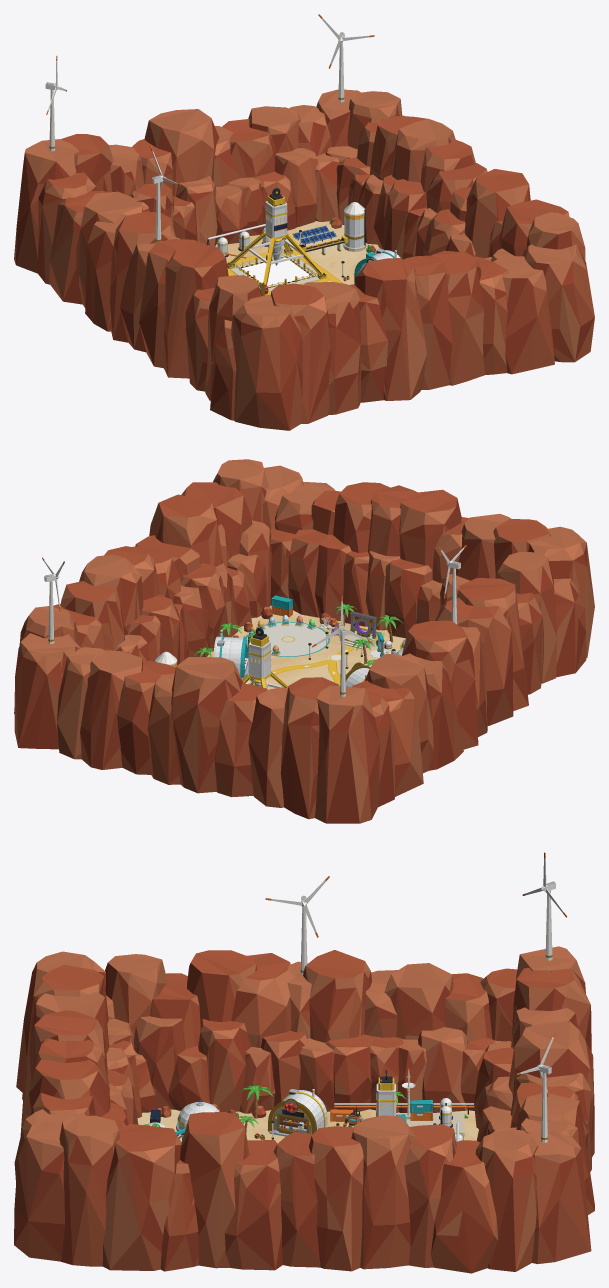
Rendered from tech-base.glb.
The picture shows the model from 3 angles, top to bottom: view 1: azimuth 30°, elevation 25°; view 2: azimuth 150°, elevation 25°; view 3: azimuth 270°, elevation 25°; orthographic projection. The views are drawn at different scales.
Parts seen in each view (by area): view 1: Batched static valley; view 2: Batched static valley; view 3: Batched static valley.
Part boxes in pixels (x1=…): Batched static valley: x1=14, y1=32, x2=594, y2=430; Batched static valley: x1=14, y1=459, x2=594, y2=823; Batched static valley: x1=14, y1=881, x2=594, y2=1273.
Bounding box in the file's own units: 133 × 69.24 × 156.
18 materials, 11 textured.
